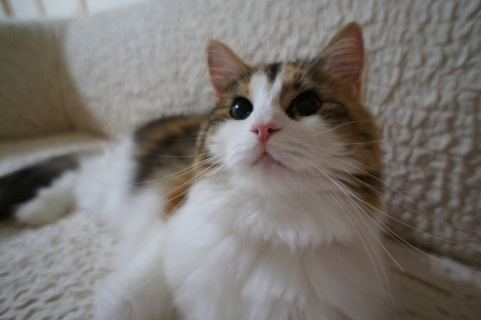Cat: (10, 22, 481, 319)
